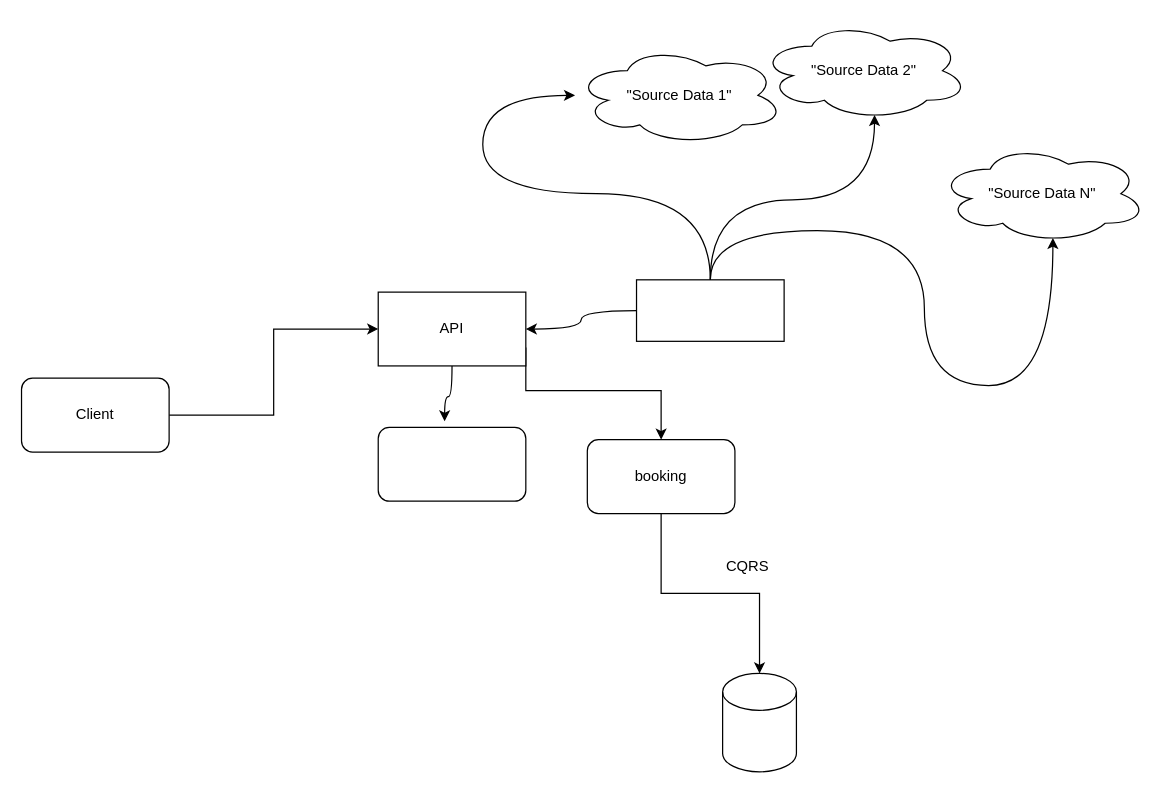
Some shapes in this 1169 by 793 pixel diagram are drawn without their labels. Each missing label, with the box of its shape:
Aggregator API: (635, 279, 784, 341)
Internal Cache: (377, 426, 526, 501)
postgress: (721, 672, 796, 772)
